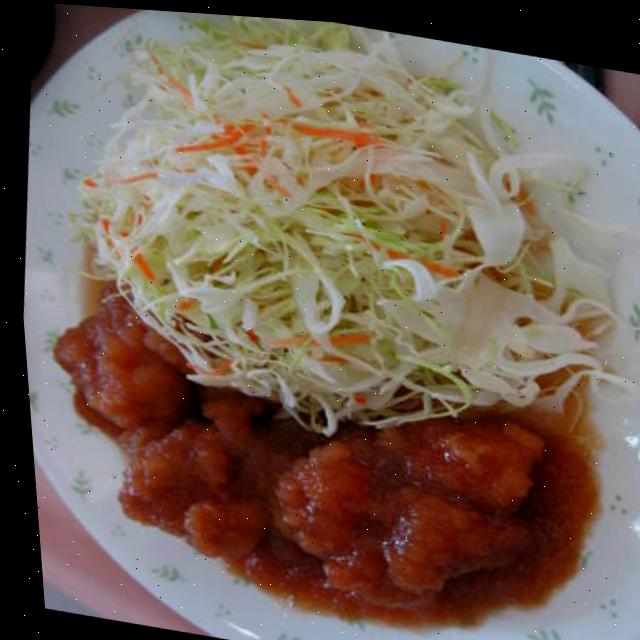鸡肉料理 含炸鸡: (18, 317, 568, 635)
